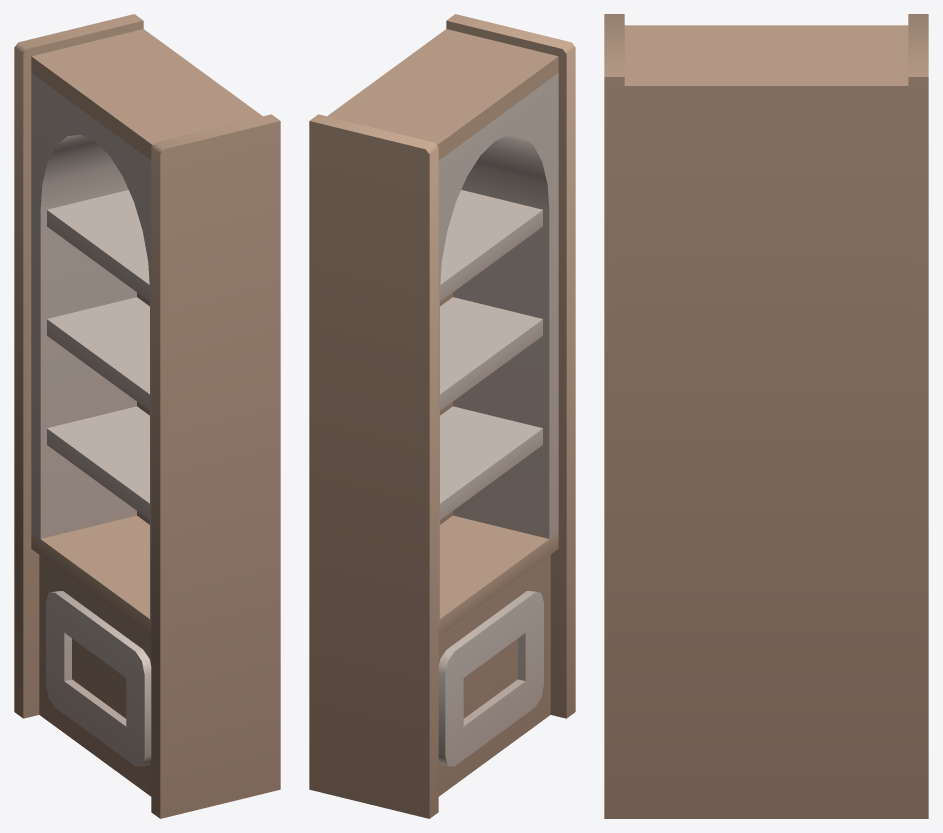
The model's file is cabinet-bookcase-arch.glb.
3 renders of one model, left to right at view 1: azimuth 30°, elevation 25°; view 2: azimuth 150°, elevation 25°; view 3: azimuth 270°, elevation 25°, orthographic. The views are drawn at different scales.
Parts seen in each view (by area): view 1: cabinet-bookcase-arch; view 2: cabinet-bookcase-arch; view 3: cabinet-bookcase-arch.
Boxes of the visible parts, <box> form: cabinet-bookcase-arch: <box>14,14,280,818</box>; cabinet-bookcase-arch: <box>309,14,575,818</box>; cabinet-bookcase-arch: <box>604,14,928,818</box>.
Bounding box in the file's own units: 0.38 × 2.02 × 0.8.
